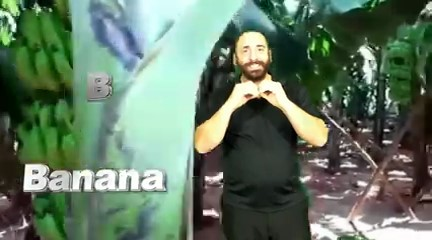B: (228, 79, 285, 109)
